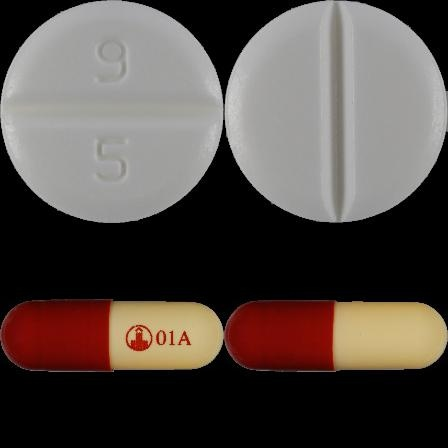68151-3966: (0, 0, 224, 224)
